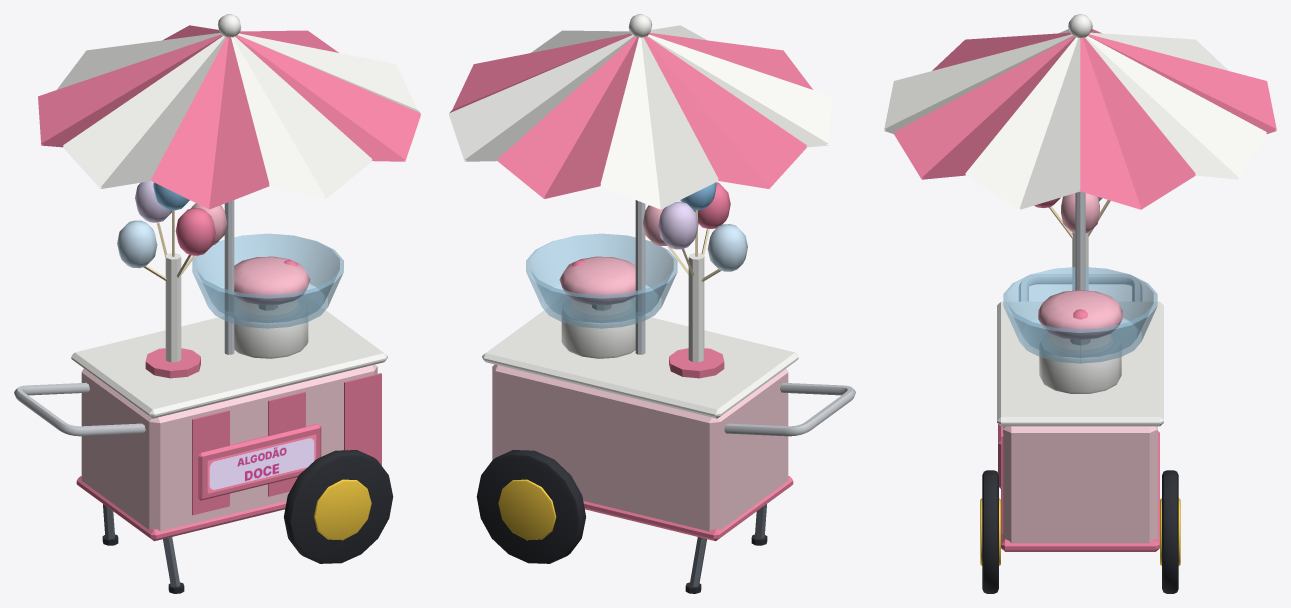
The model's file is carrinho_algodao_doce.glb.
3 views of the same model, side by side, from view 1: azimuth 30°, elevation 25°; view 2: azimuth 150°, elevation 25°; view 3: azimuth 270°, elevation 25° (orthographic).
Parts seen in each view (by area): view 1: carrinho_algodao_doce, maquina_algodao; view 2: carrinho_algodao_doce, maquina_algodao; view 3: carrinho_algodao_doce, maquina_algodao.
Part boxes in pixels (left/top/right/bottom): carrinho_algodao_doce: left=14, top=14, right=420, bottom=593; maquina_algodao: left=234, top=256, right=310, bottom=310; carrinho_algodao_doce: left=449, top=14, right=855, bottom=593; maquina_algodao: left=559, top=256, right=635, bottom=310; carrinho_algodao_doce: left=884, top=14, right=1276, bottom=593; maquina_algodao: left=1038, top=290, right=1122, bottom=344.
Bounding box in the file's own units: 2.04 × 2.89 × 1.9.
Materials: 4 (2 with a texture image).
